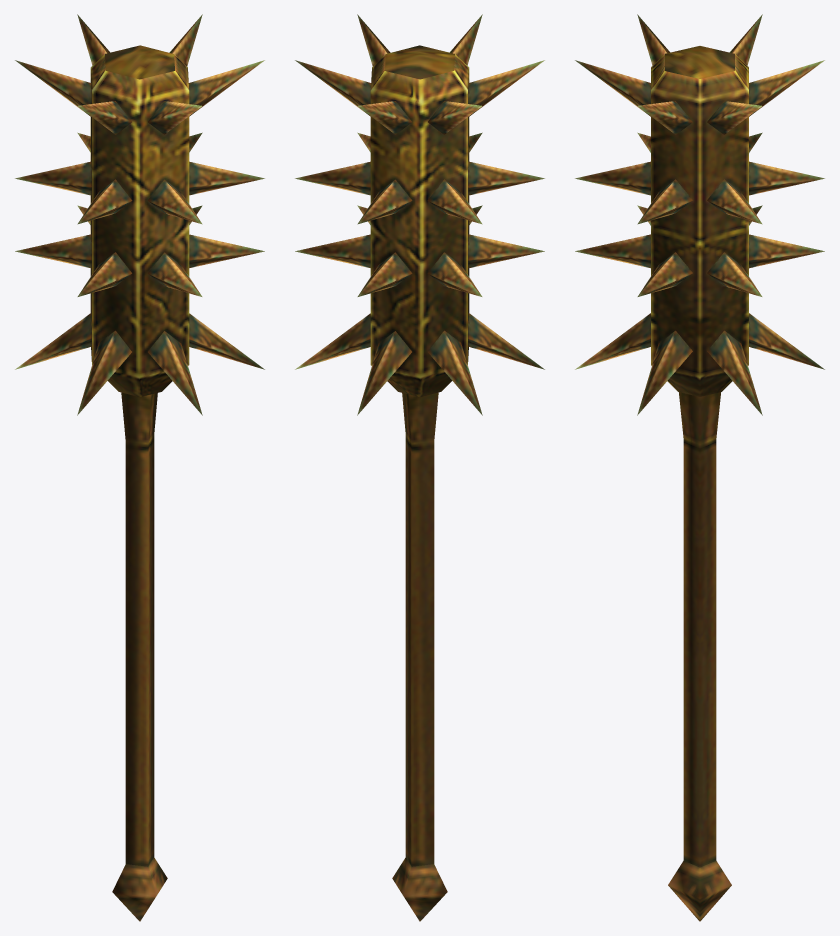
Rendered from TH_Mace05_a.FBX.
3 views of the same model, side by side, from view 1: azimuth 30°, elevation 25°; view 2: azimuth 150°, elevation 25°; view 3: azimuth 270°, elevation 25° (orthographic).
Visible parts, largest first — view 1: TH_Mace05_a; view 2: TH_Mace05_a; view 3: TH_Mace05_a.
Boxes of the visible parts, x1,y1,x2,y2 form: TH_Mace05_a: (15, 14, 264, 921); TH_Mace05_a: (295, 14, 544, 921); TH_Mace05_a: (575, 14, 824, 921).
Bounding box in the file's own units: 27.74 × 122 × 32.03.
